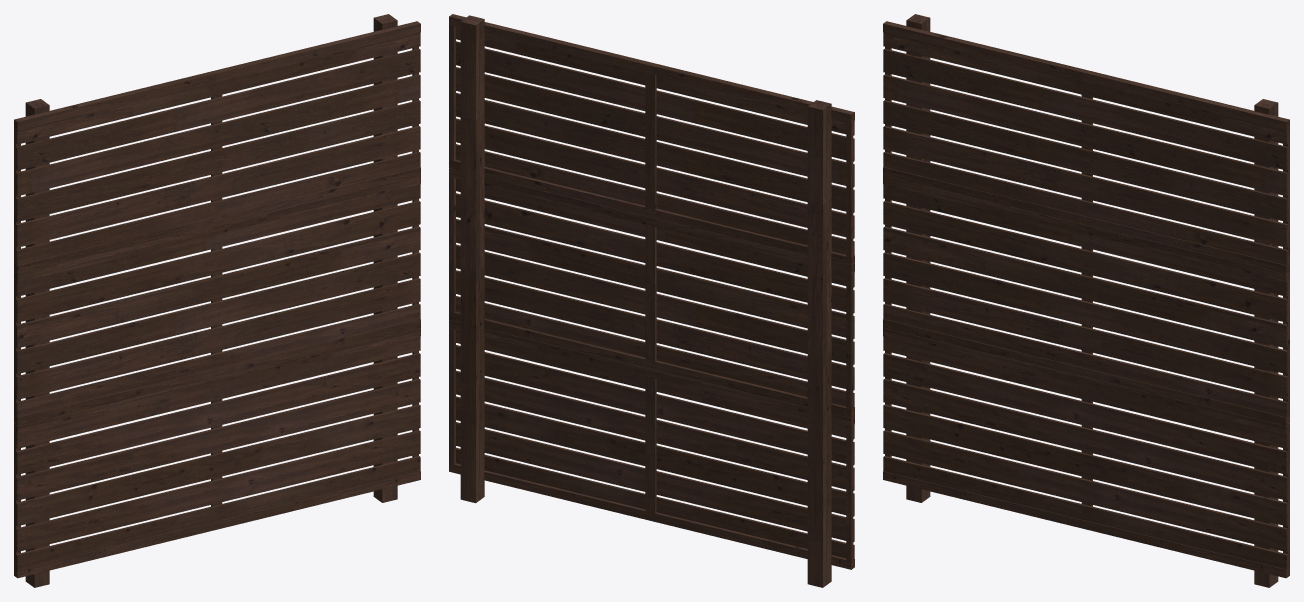
The model's file is eafyokoita-tadan_h24_darkpine.fbx.
3 renders of one model, left to right at view 1: azimuth 30°, elevation 25°; view 2: azimuth 150°, elevation 25°; view 3: azimuth 330°, elevation 25°, orthographic.
Parts seen in each view (by area): view 1: eafyokoita-tadan_h24_darkpine; view 2: eafyokoita-tadan_h24_darkpine; view 3: eafyokoita-tadan_h24_darkpine.
Boxes of the visible parts, x1,y1,x2,y2 form: eafyokoita-tadan_h24_darkpine: (14, 14, 420, 587); eafyokoita-tadan_h24_darkpine: (449, 14, 854, 587); eafyokoita-tadan_h24_darkpine: (883, 14, 1289, 587).
Bounding box in the file's own units: 200 × 227 × 10.25.
Materials: 1 (1 with a texture image).
